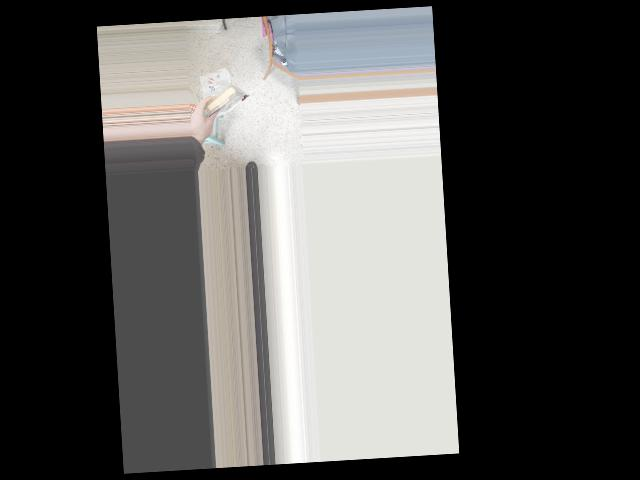cheese: (190, 82, 250, 122)
